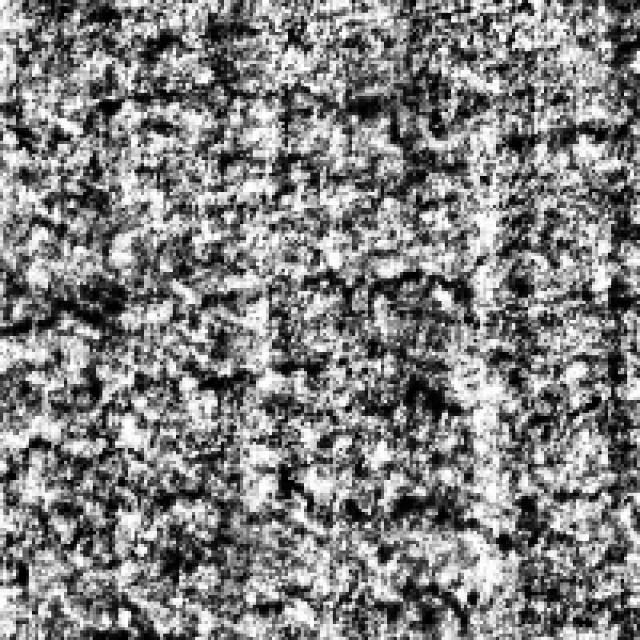Pitted_Surface: (3, 266, 563, 580)
